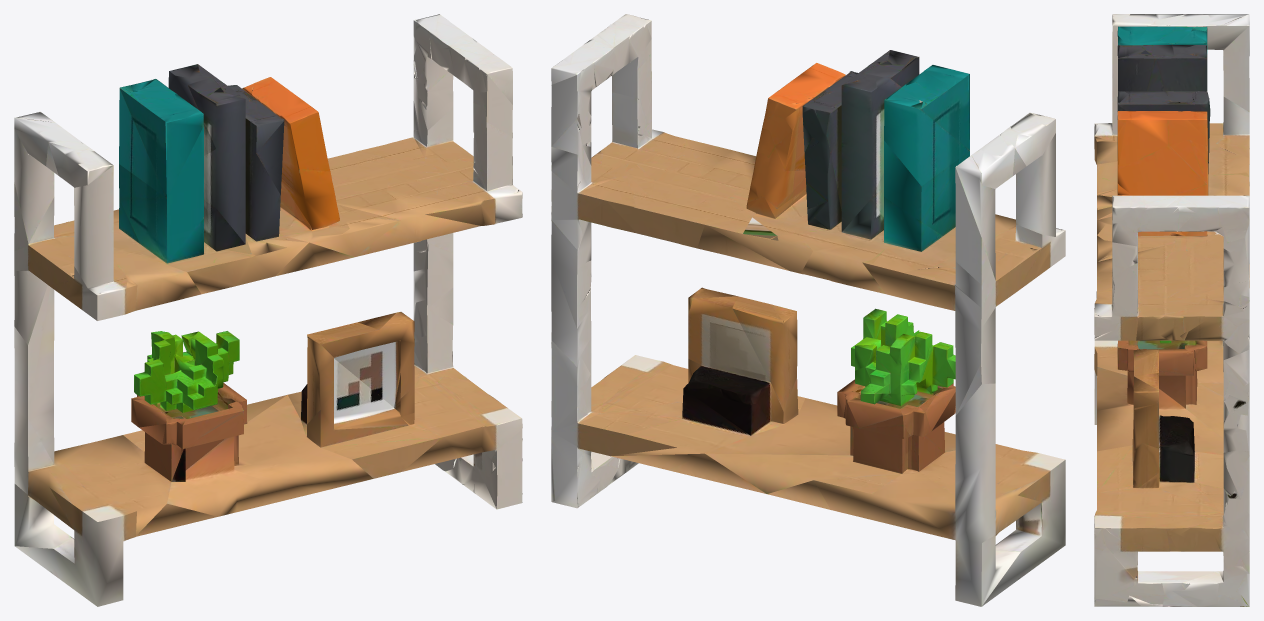
The model's file is wall_shelf.glb.
The picture shows the model from 3 angles, left to right: view 1: azimuth 30°, elevation 25°; view 2: azimuth 150°, elevation 25°; view 3: azimuth 270°, elevation 25°; orthographic projection. The views are drawn at different scales.
Size of the model in its own units: 1.94 by 2 by 0.657.
Materials: 1 (1 with a texture image).
